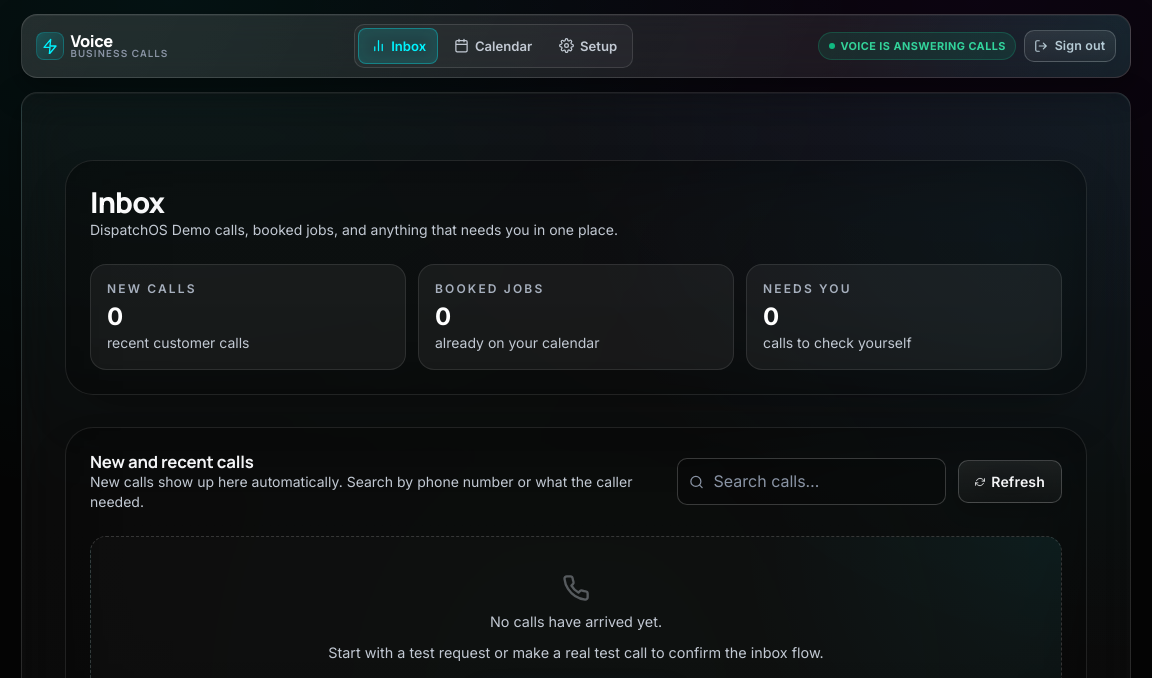
web app › keeps tenant settings loaded across protected route navigation
Check: the heading "New and recent calls" is shown, box [90, 450, 254, 473]
Click the link "Setup".
click(588, 46)  # box [559, 38, 617, 54]
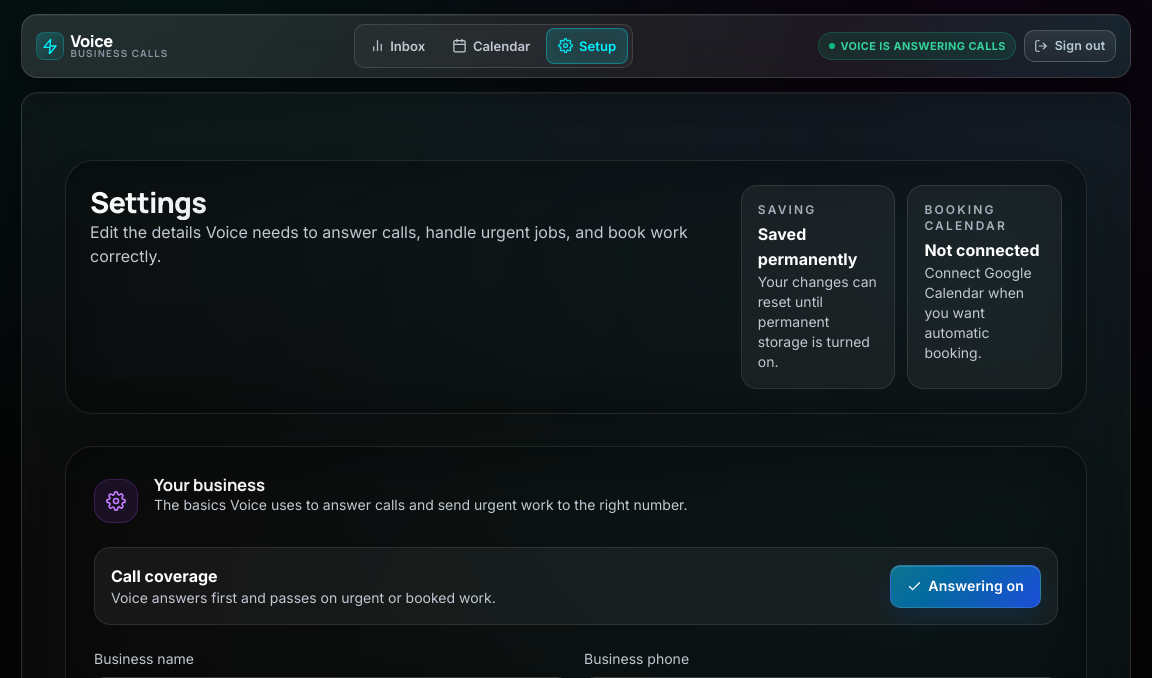
Check: the heading "Settings" is shown, box [90, 185, 725, 220]
